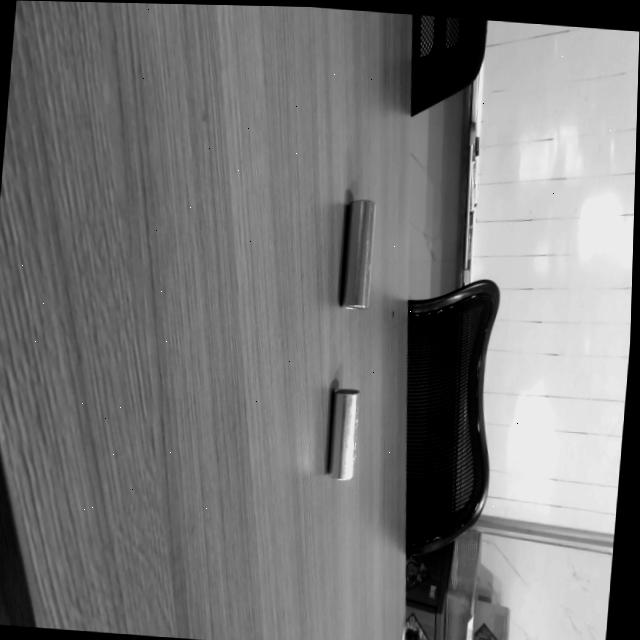Co_Lon: (340, 198, 377, 309)
Co_Nho: (327, 387, 359, 480)
